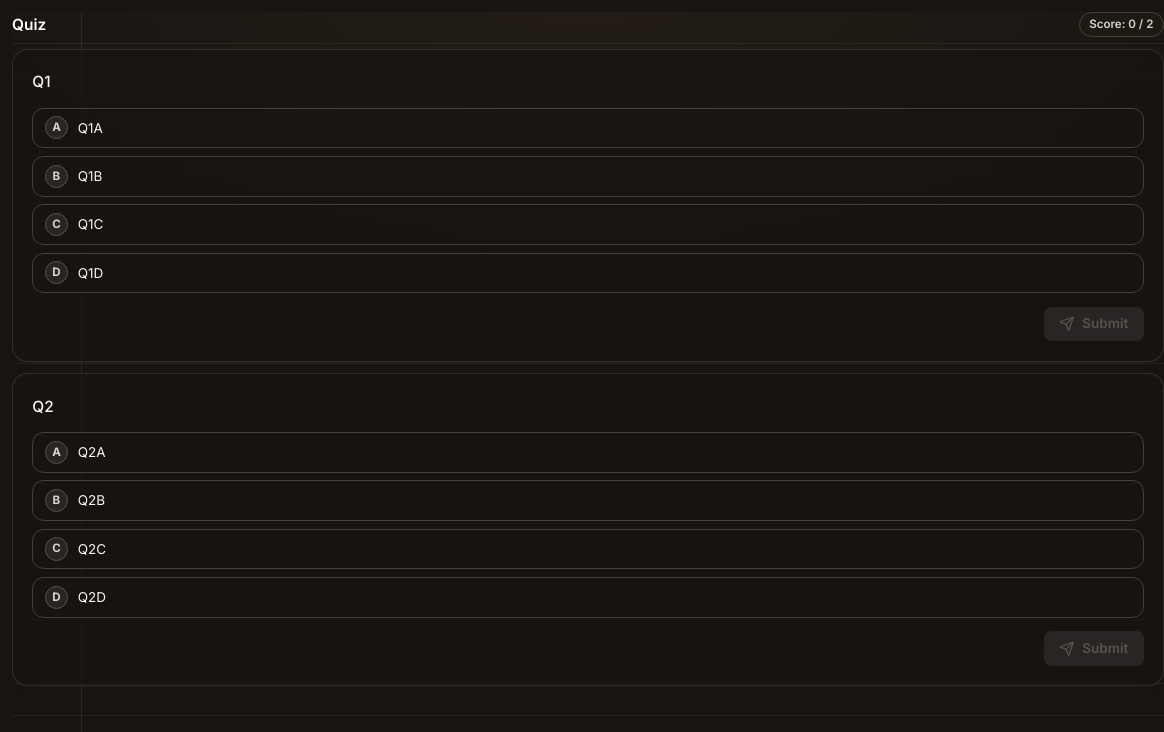
Test case: QuizSection › highlights the correct option and updates the score on a correct answer
The width and height of the screenshot is (1164, 732).
Click the radio button labelled "Q1A".
click(56, 128)  # box [32, 108, 1144, 148]
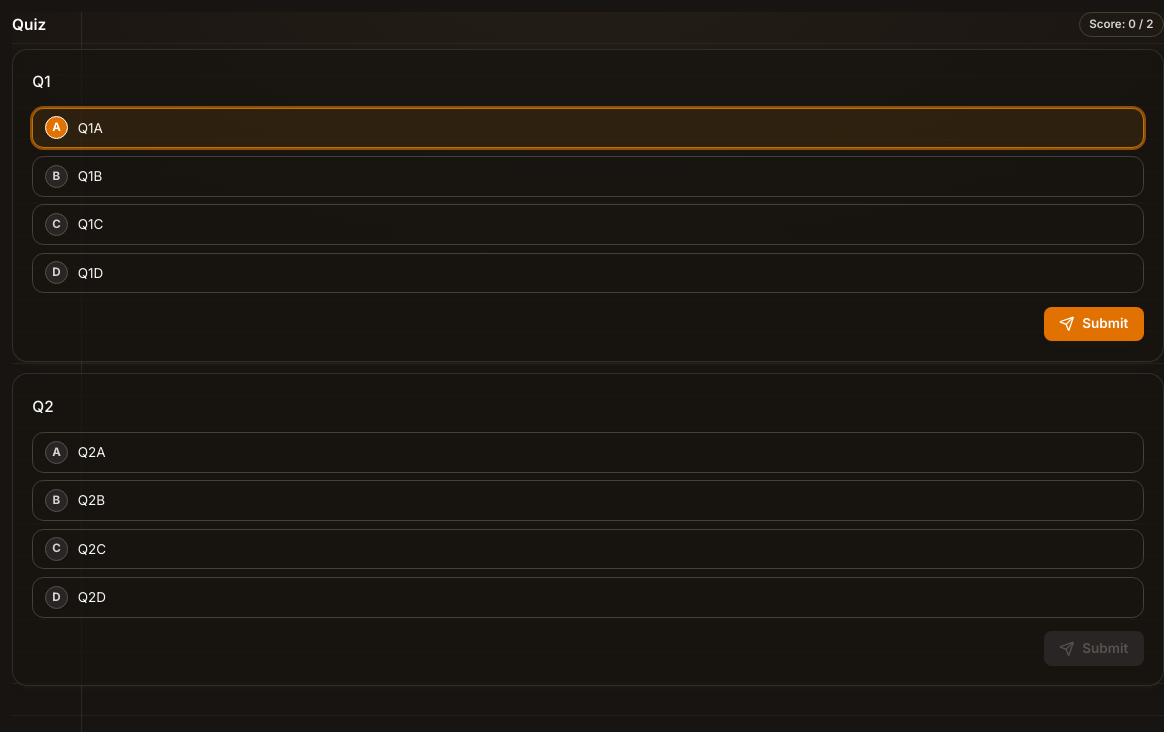
Click the 1st button "Submit".
click(1094, 324)  # box [1044, 307, 1144, 341]
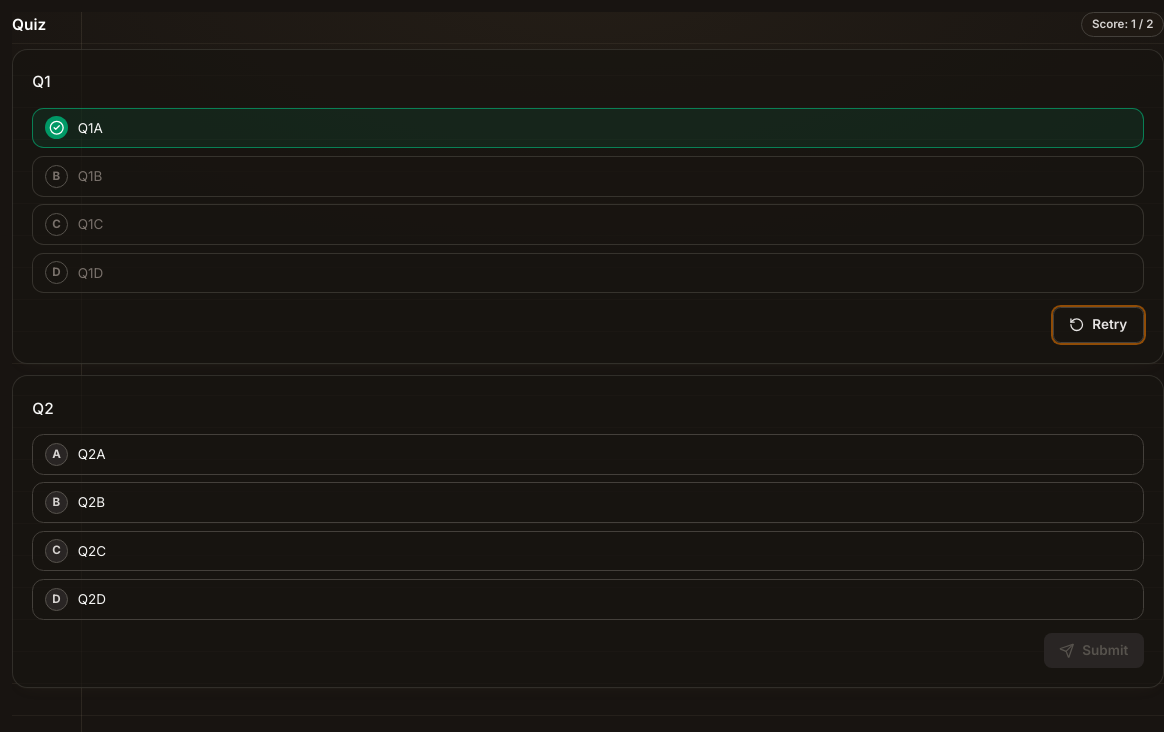
Expected: the text "Score: 1 / 2" is shown, [1081, 12, 1163, 37]
Expected: the button "Retry" is shown, [1053, 307, 1144, 343]
Expected: the radio button labelled "Q1A" is disabled, [32, 108, 1144, 148]
